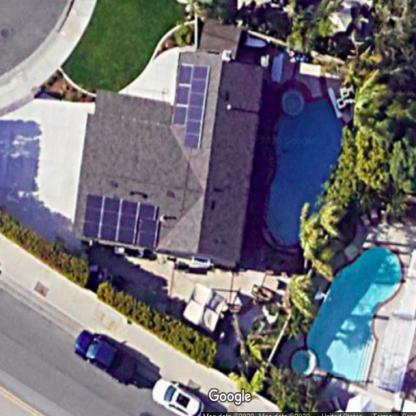car: (66, 324, 140, 387), (149, 373, 205, 416)
solar_panel: (76, 185, 165, 254), (166, 55, 209, 150)
swimming_pool: (289, 223, 408, 391), (258, 82, 357, 253)
